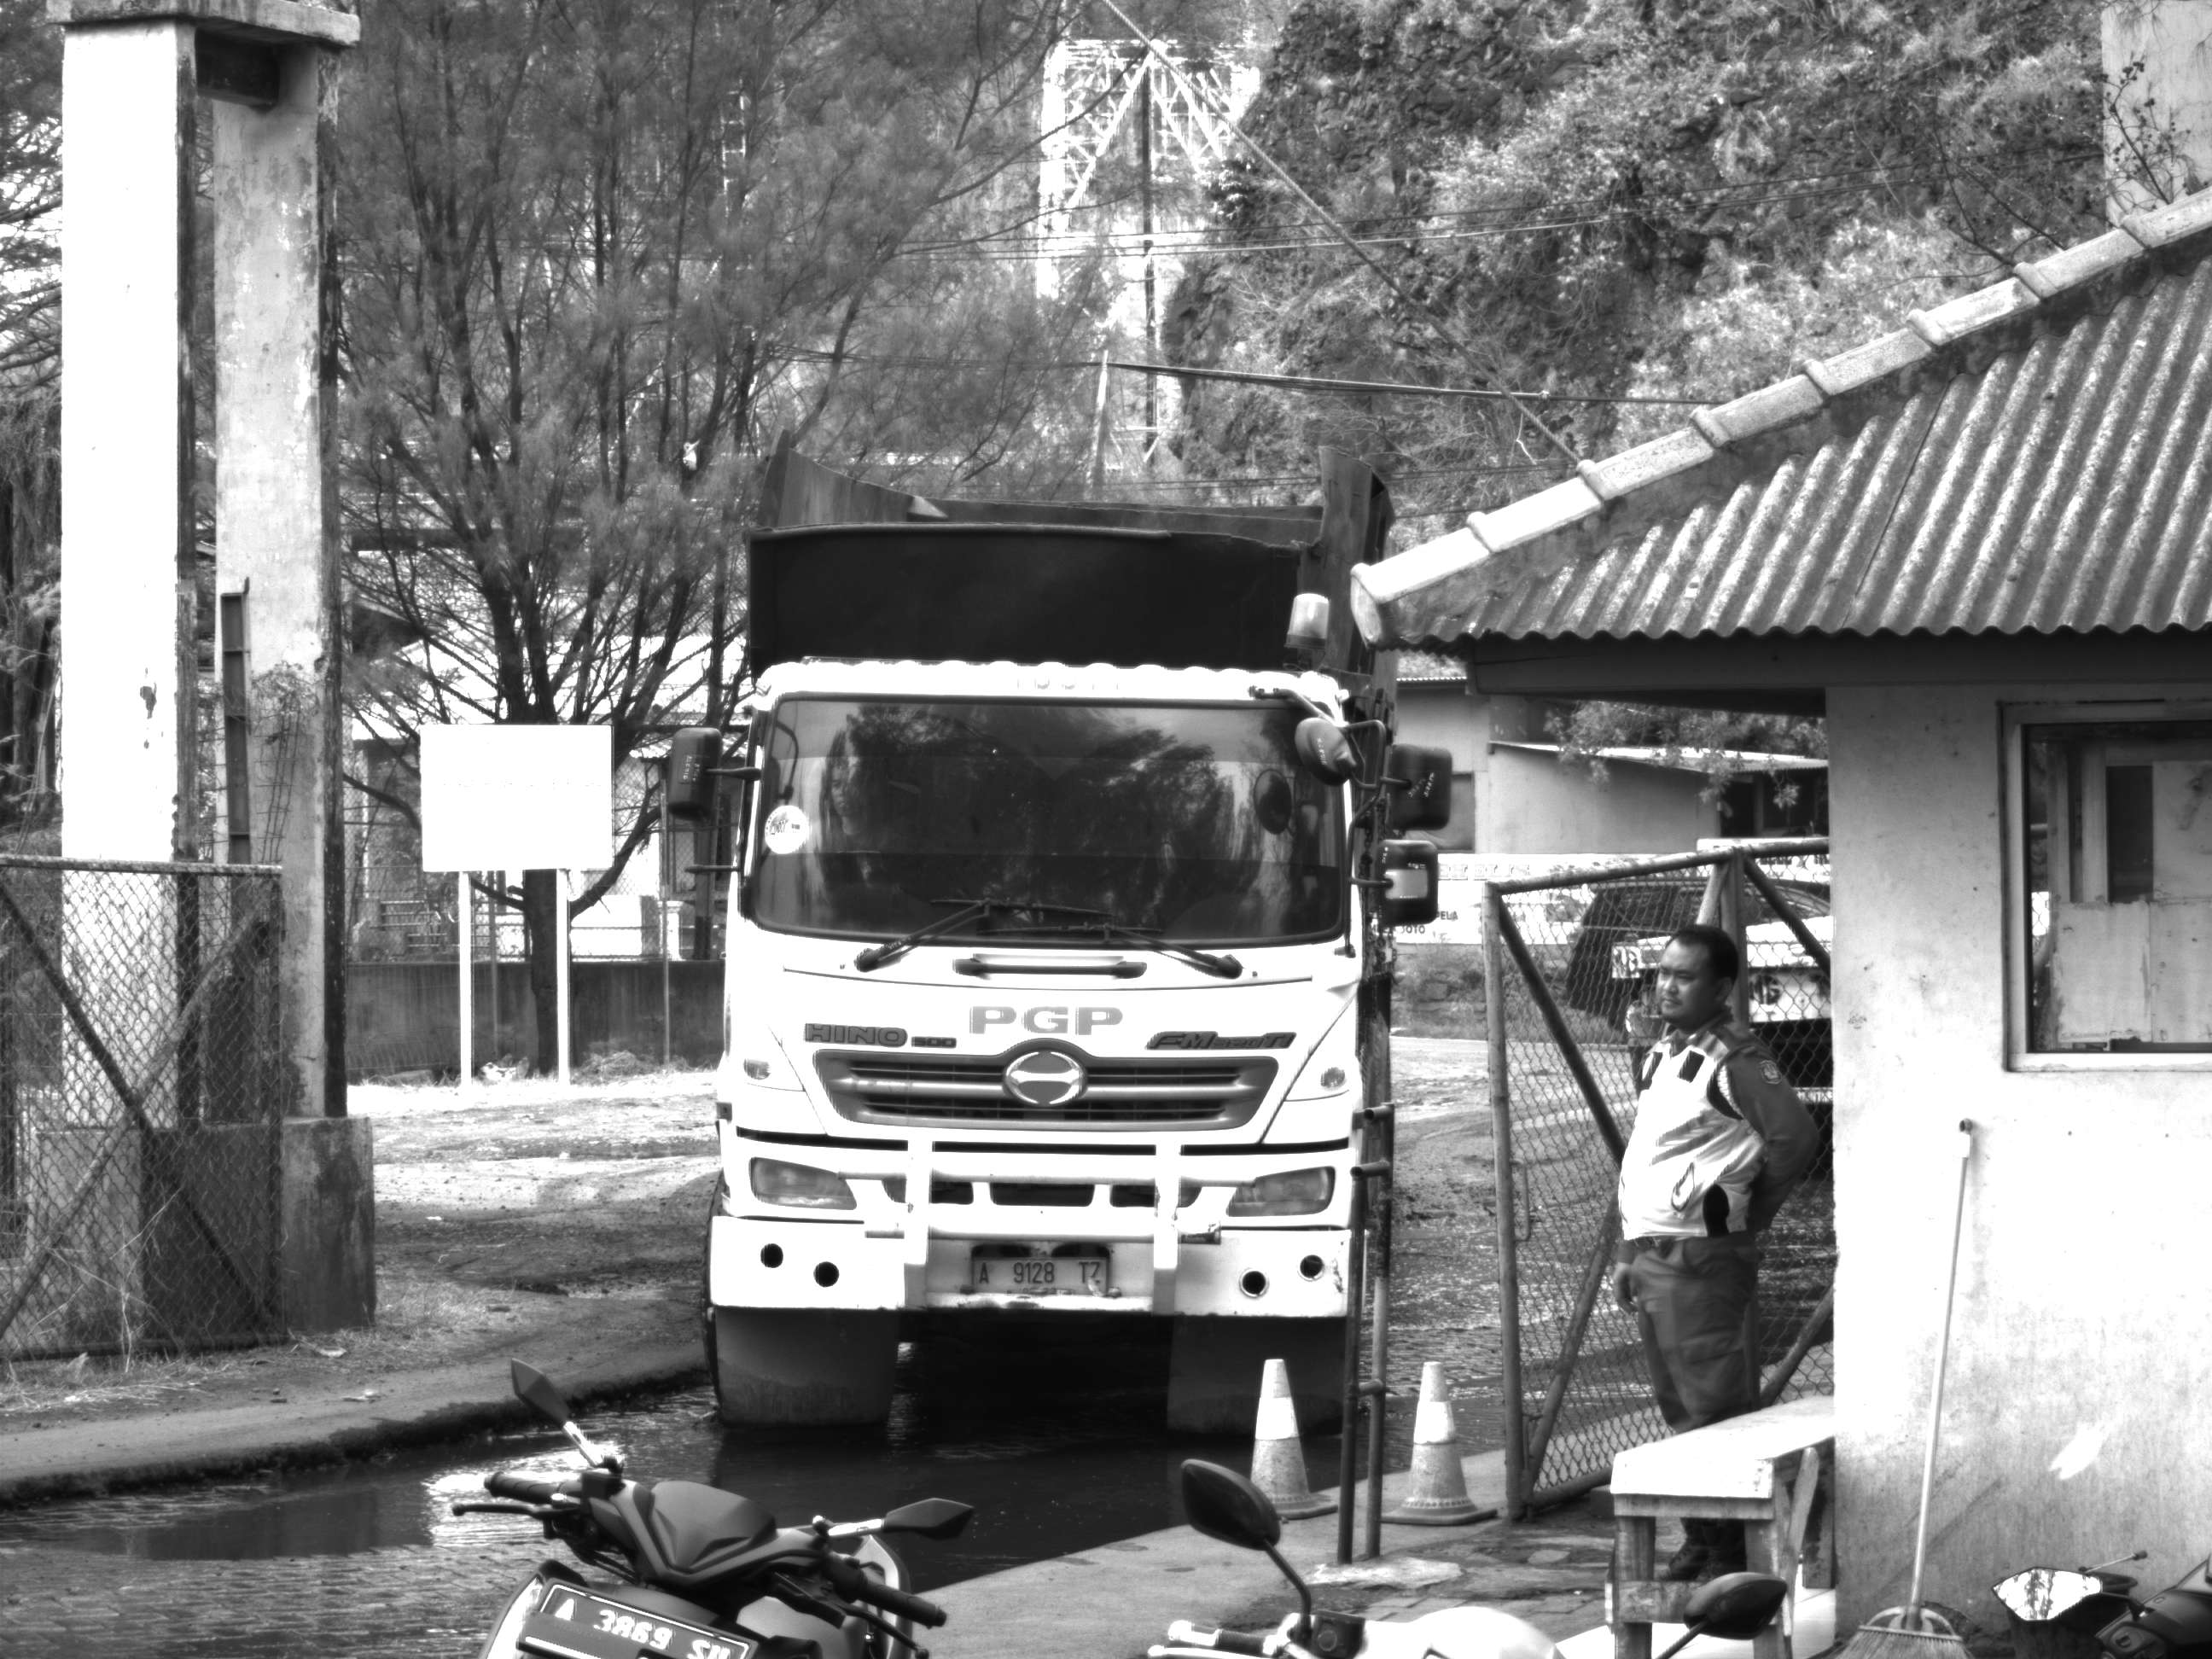day_truck_front: (704, 651, 1392, 1440)
plate: (970, 1247, 1116, 1307)
